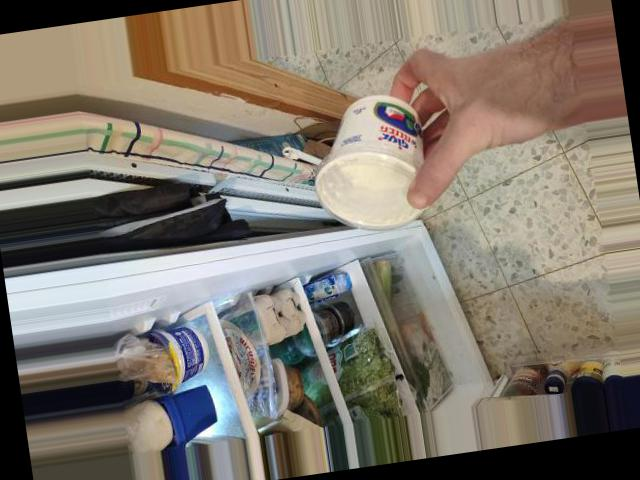cotage: (298, 103, 431, 222)
